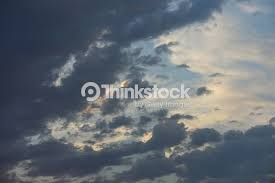sky: (2, 2, 275, 181)
